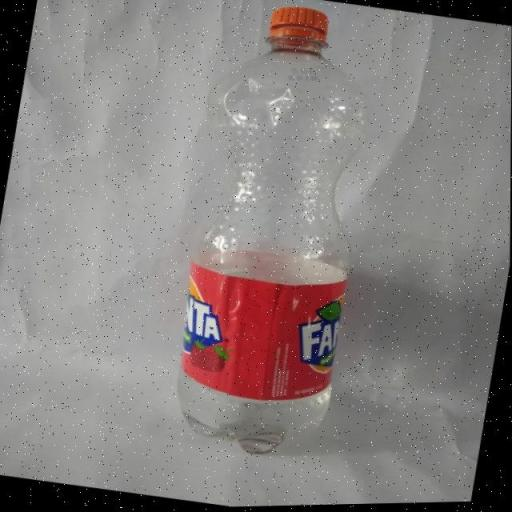plastic: (150, 0, 395, 469)
